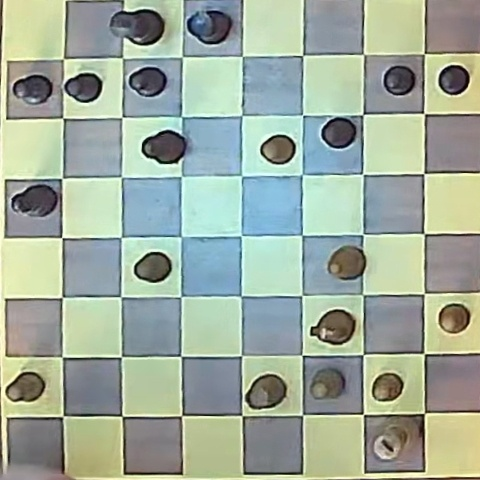black-bishop: (11, 184, 58, 218), (142, 130, 185, 164)
black-king: (110, 9, 163, 46)
black-pawn: (13, 74, 53, 105), (64, 72, 103, 103), (321, 117, 357, 149), (128, 67, 167, 96), (438, 64, 470, 95), (383, 65, 416, 95)
black-rook: (186, 9, 232, 45)
white-bishop: (327, 246, 366, 281)
white-king: (372, 422, 412, 461)
white-knight: (310, 310, 354, 346)
white-pawn: (134, 252, 172, 283), (260, 134, 296, 164), (310, 369, 344, 400), (438, 304, 470, 334), (372, 373, 404, 402)
white-rook: (246, 374, 286, 409), (5, 372, 46, 403)
